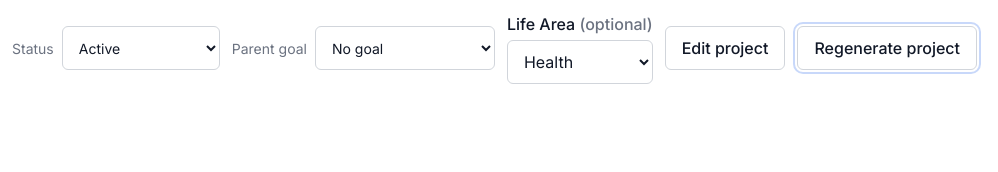
Test: ProjectDetailClient › clears the selected direct Area while assigning a Goal
Select "Launch a newsletter" in the dropdown labelled "Parent goal" at (405, 48), box [315, 26, 495, 70]
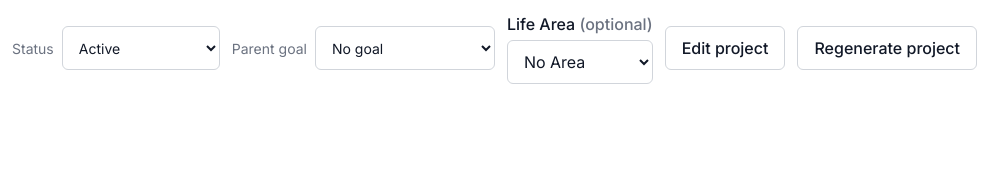
Expected: the dropdown labelled "Life Area (optional)" shows "No Area", [507, 40, 653, 84]
